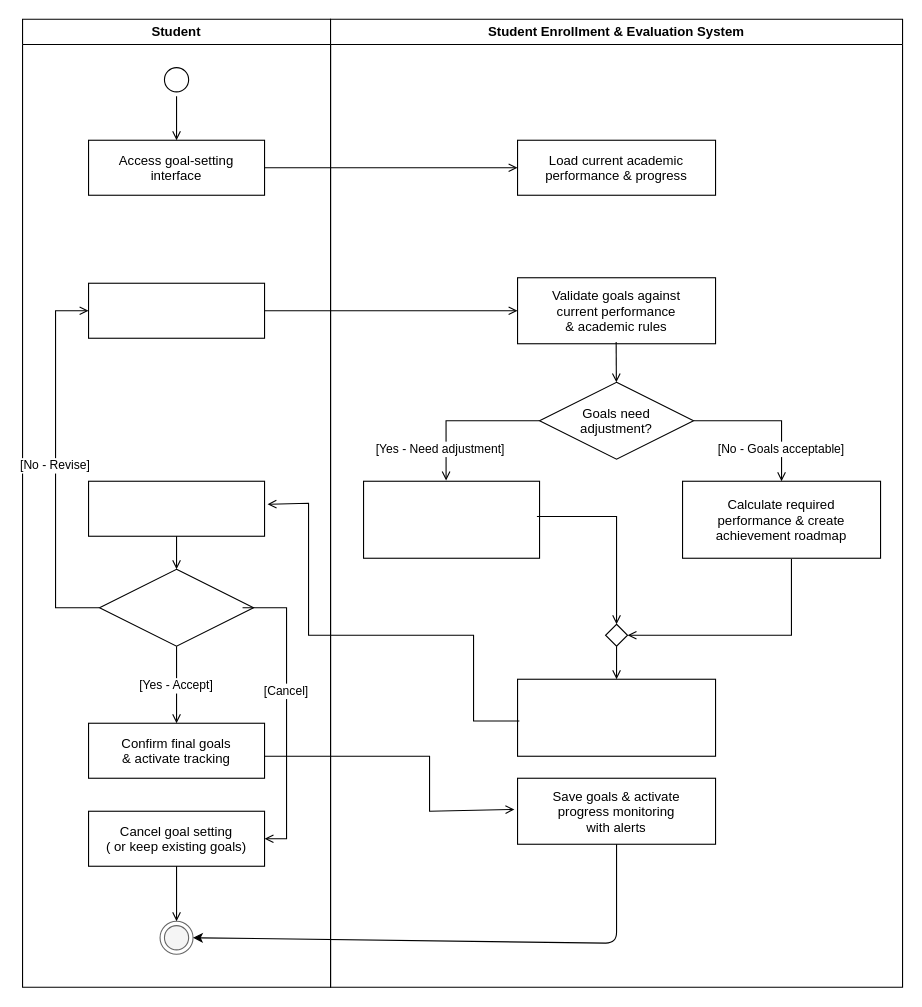
The diagram is 922 pixels wide and 1007 high, and some of its shapes have lost their labels. The shapes that lost their labels are listed below. From the top down, each one's centre as x and y in pixels, then its label:
At point 176,310: "Set target GPA and desired academic class".
At point 176,508: "Review system feedback & suggested adjustments".
At point 451,519: "Generate suggestions & realistic alternatives with explanations".
At point 176,607: "Accept system suggestions?".
At point 616,717: "Generate personalized plan with milestones".
